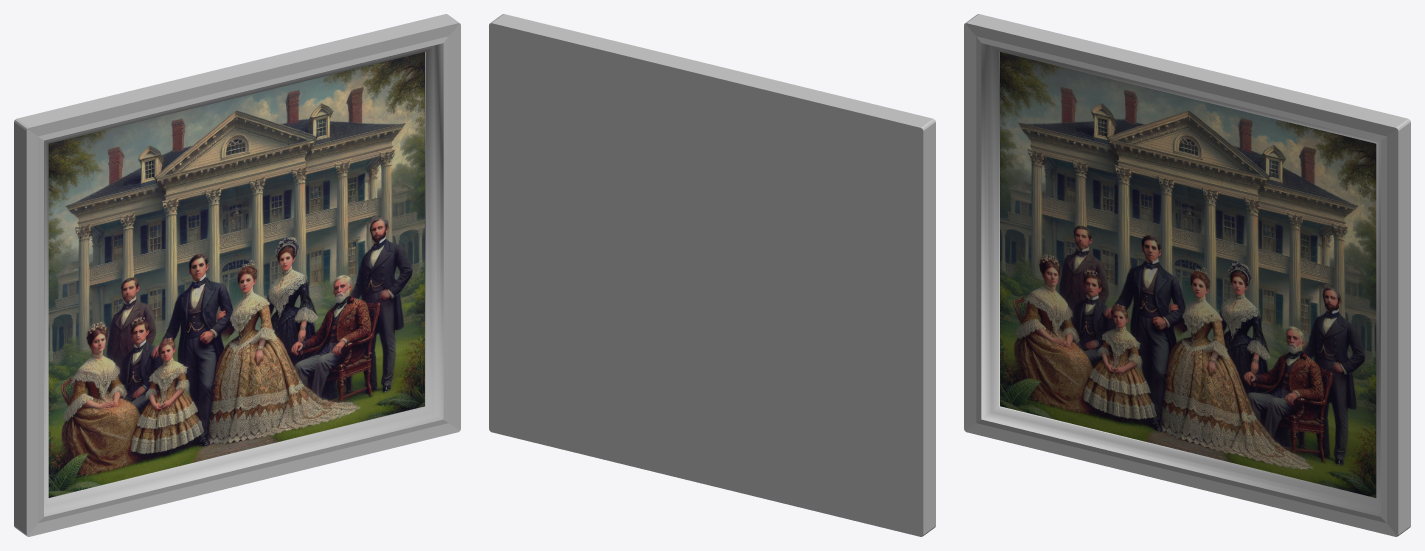
File: painting1.fbx
3 views of the same model, side by side, from view 1: azimuth 30°, elevation 25°; view 2: azimuth 150°, elevation 25°; view 3: azimuth 330°, elevation 25° (orthographic).
Parts seen in each view (by area): view 1: painting1; view 2: painting1; view 3: painting1.
Boxes of the visible parts, box(x1,y1,x2,y2) form: painting1: box(14, 14, 460, 536); painting1: box(489, 14, 935, 536); painting1: box(964, 14, 1410, 536).
Size of the model in its own units: 100 by 90 by 5.
